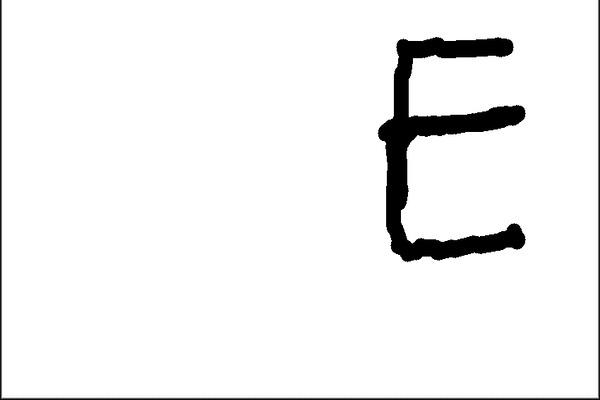E: (372, 34, 540, 265)
